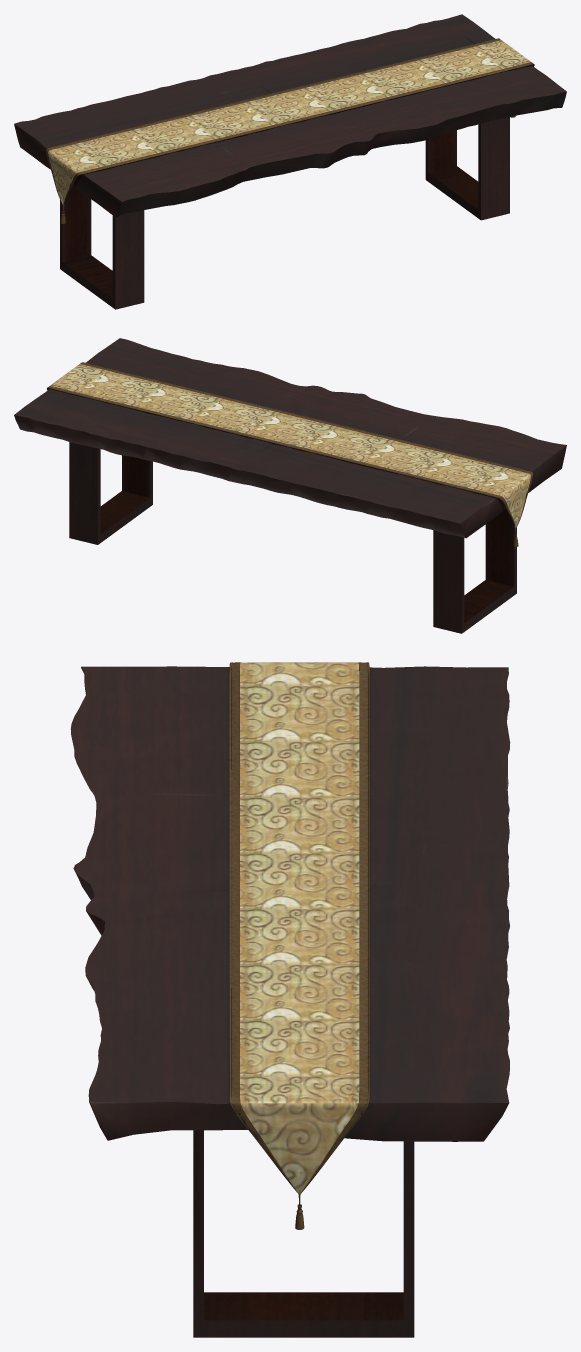
The model's file is raw_model.obj.
The picture shows the model from 3 angles, top to bottom: view 1: azimuth 30°, elevation 25°; view 2: azimuth 150°, elevation 25°; view 3: azimuth 270°, elevation 25°; orthographic projection. The views are drawn at different scales.
Parts seen in each view (by area): view 1: solid_001, solid_003, solid_002; view 2: solid_001, solid_003, solid_002; view 3: solid_001, solid_003, solid_002.
Boxes of the visible parts, x1,y1,x2,y2 form: solid_001: [14, 14, 566, 309]; solid_003: [48, 40, 530, 205]; solid_002: [46, 38, 534, 223]; solid_001: [14, 338, 566, 633]; solid_003: [50, 364, 530, 528]; solid_002: [47, 362, 533, 546]; solid_001: [70, 666, 510, 1337]; solid_003: [240, 662, 359, 1194]; solid_002: [229, 662, 369, 1229].
Bounding box in the file's own units: 2.38 × 0.6717 × 0.9966.
1 material, 1 textured.
